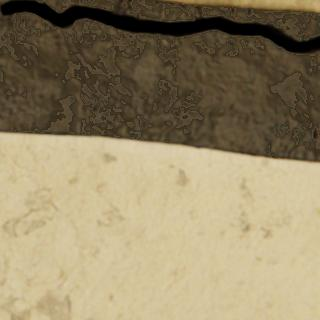brick: (0, 132, 319, 319), (158, 0, 319, 12)
crack: (0, 0, 319, 53)
